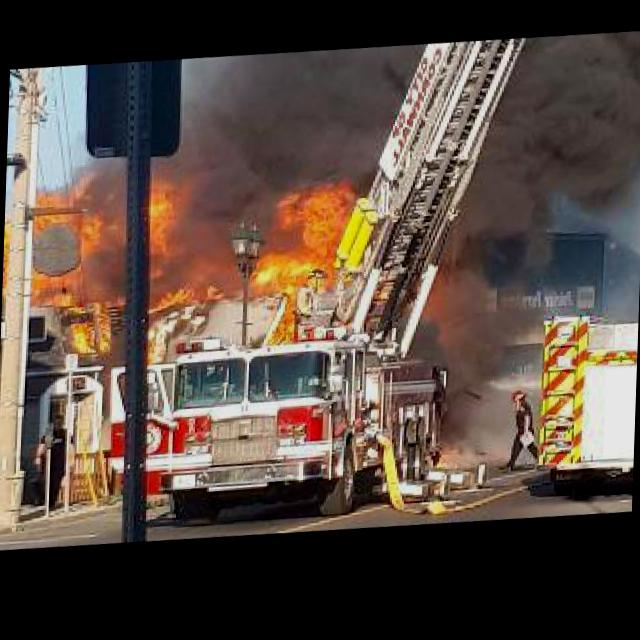Fire: (9, 152, 376, 367)
Smoke: (69, 37, 418, 218), (447, 38, 640, 260), (430, 250, 531, 474)
